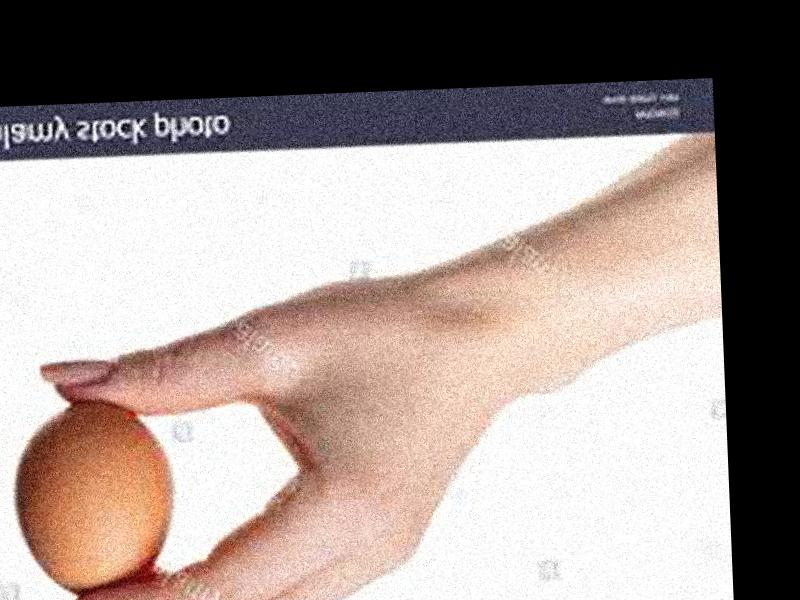Eggs: (13, 402, 181, 596)
